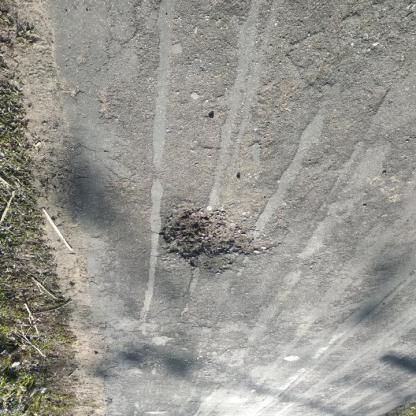pothole: (161, 206, 270, 274)
